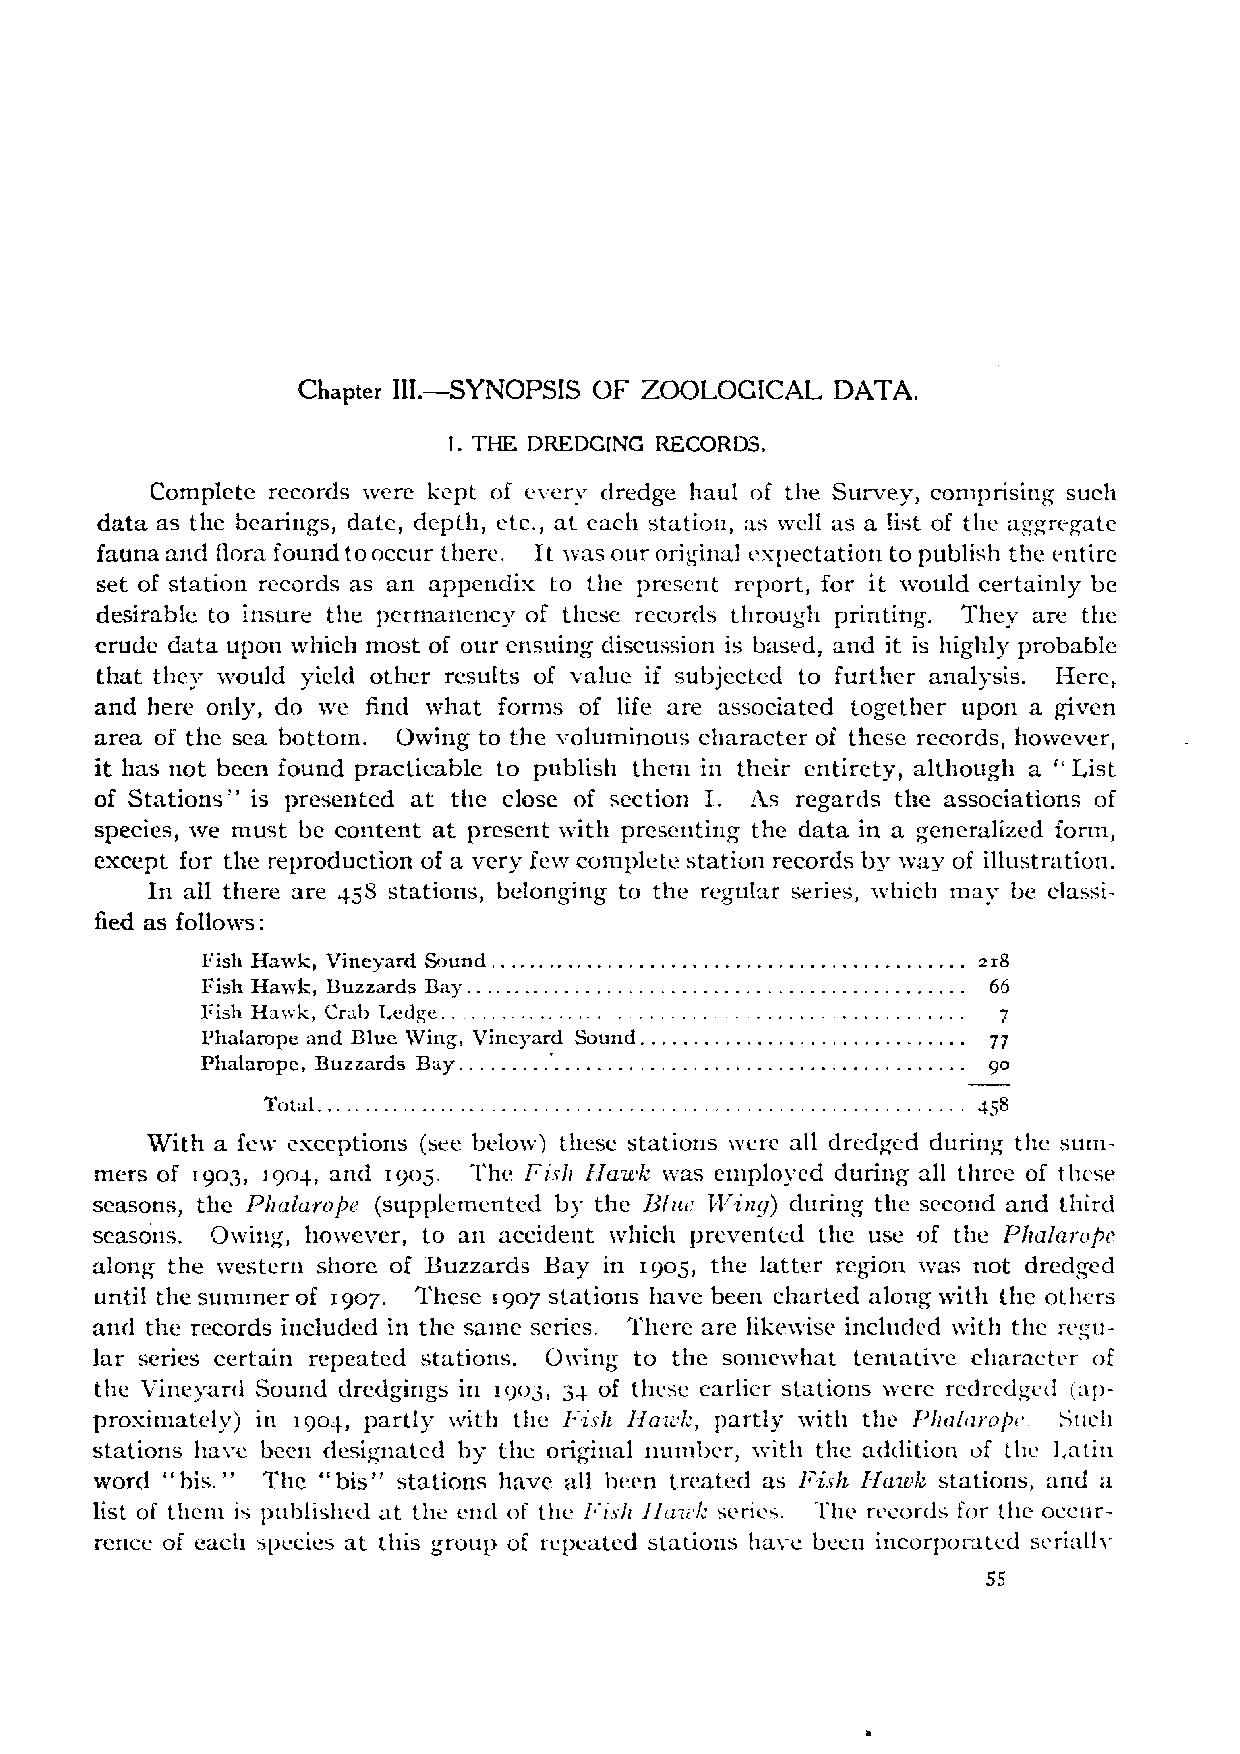chapter: (294, 372, 917, 455)
content: (93, 478, 1117, 1558)
content_pagenumber: (982, 1567, 1006, 1588)
